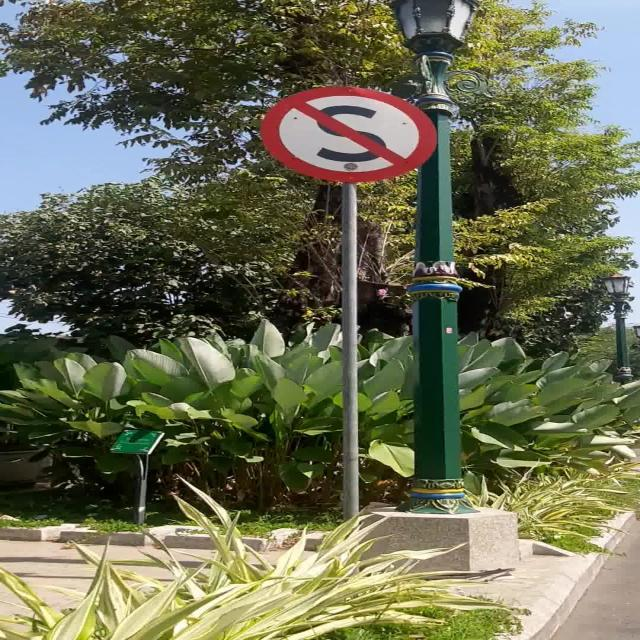Dilarang Berhenti: (261, 86, 437, 182)
